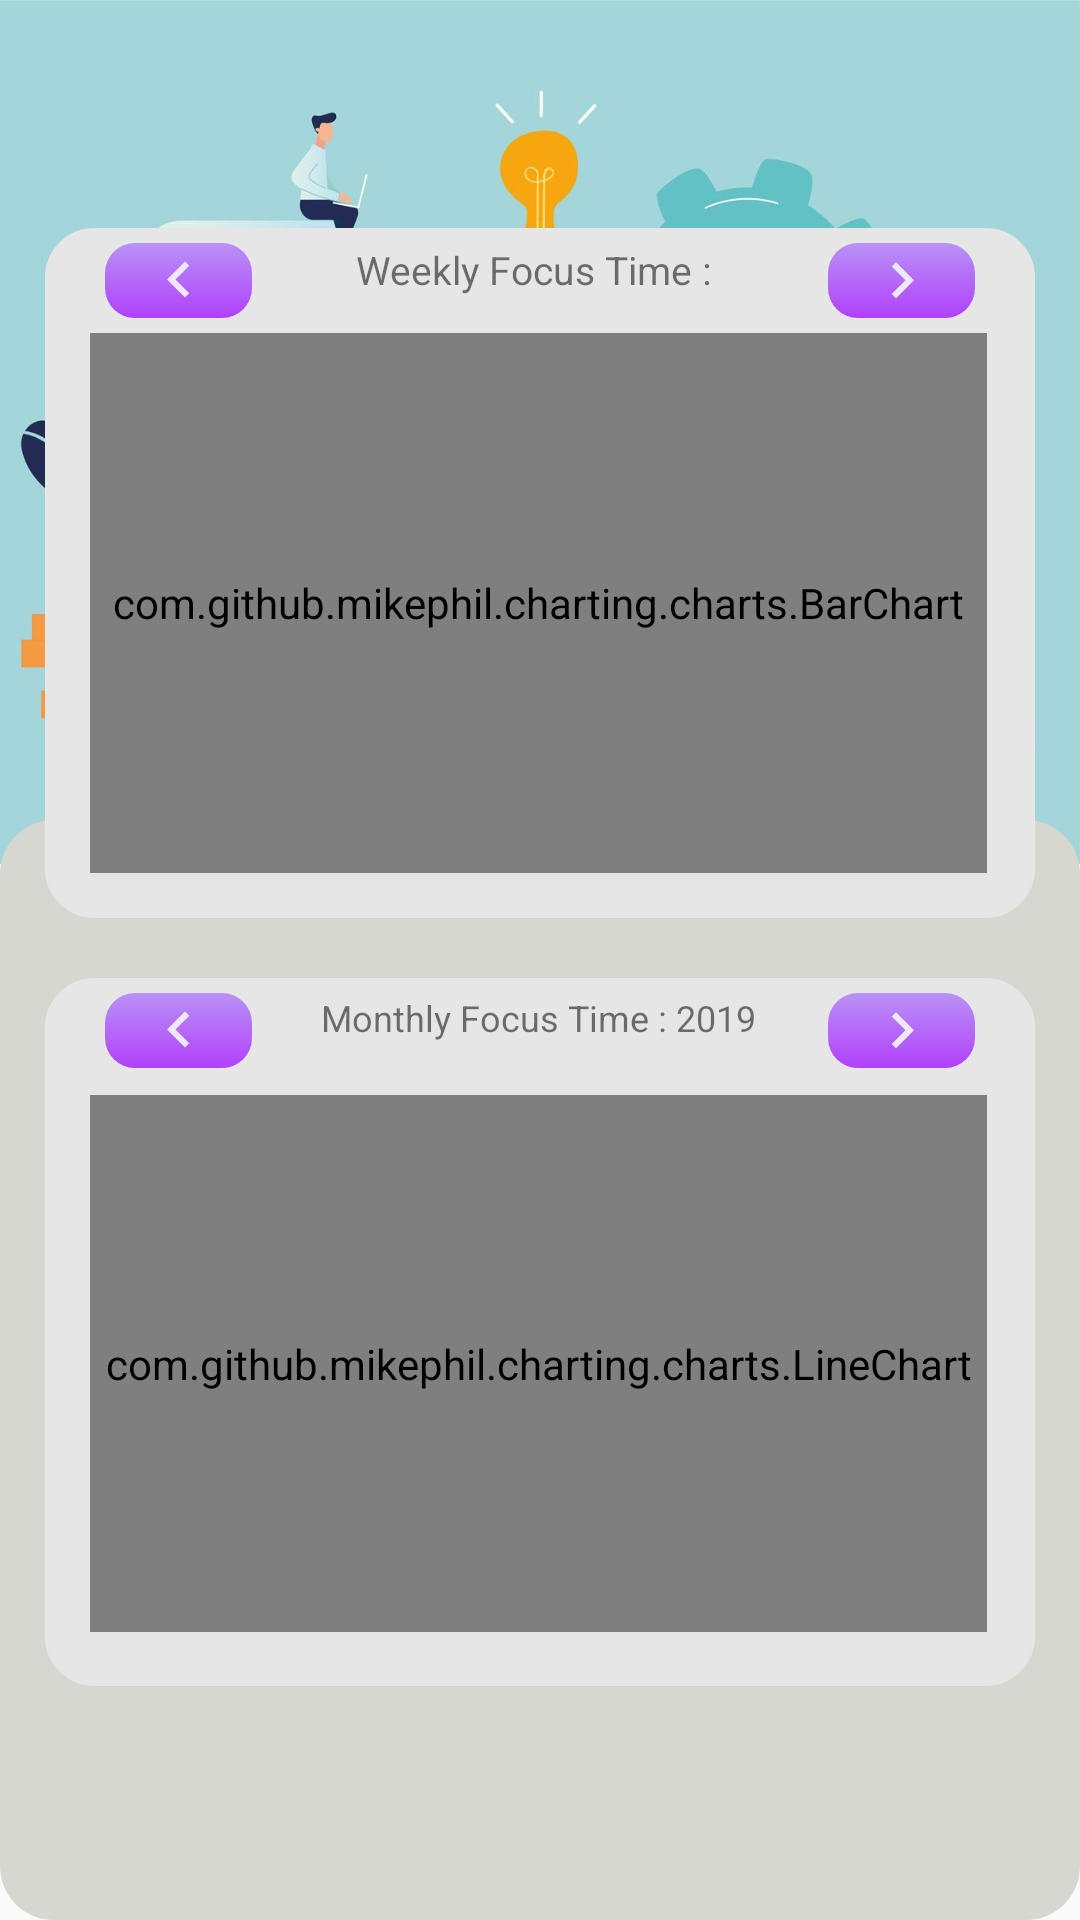

Icons on this 1080*1920 Android screen, each with the point to tap as (x=x, y=y):
left arrow: (x=178, y=280), (x=178, y=1030)
right arrow: (x=901, y=280), (x=901, y=1030)
